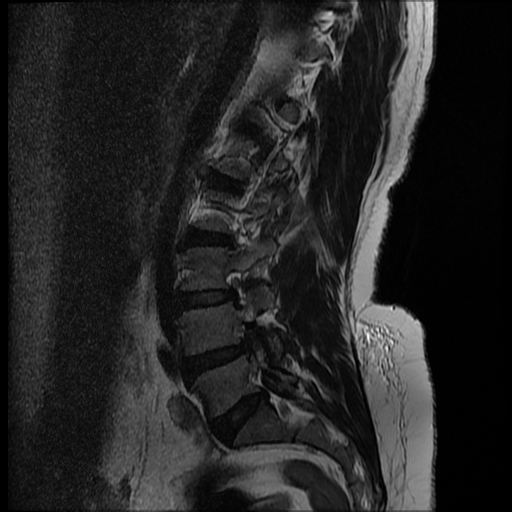RFS0: (214, 262, 253, 318)
